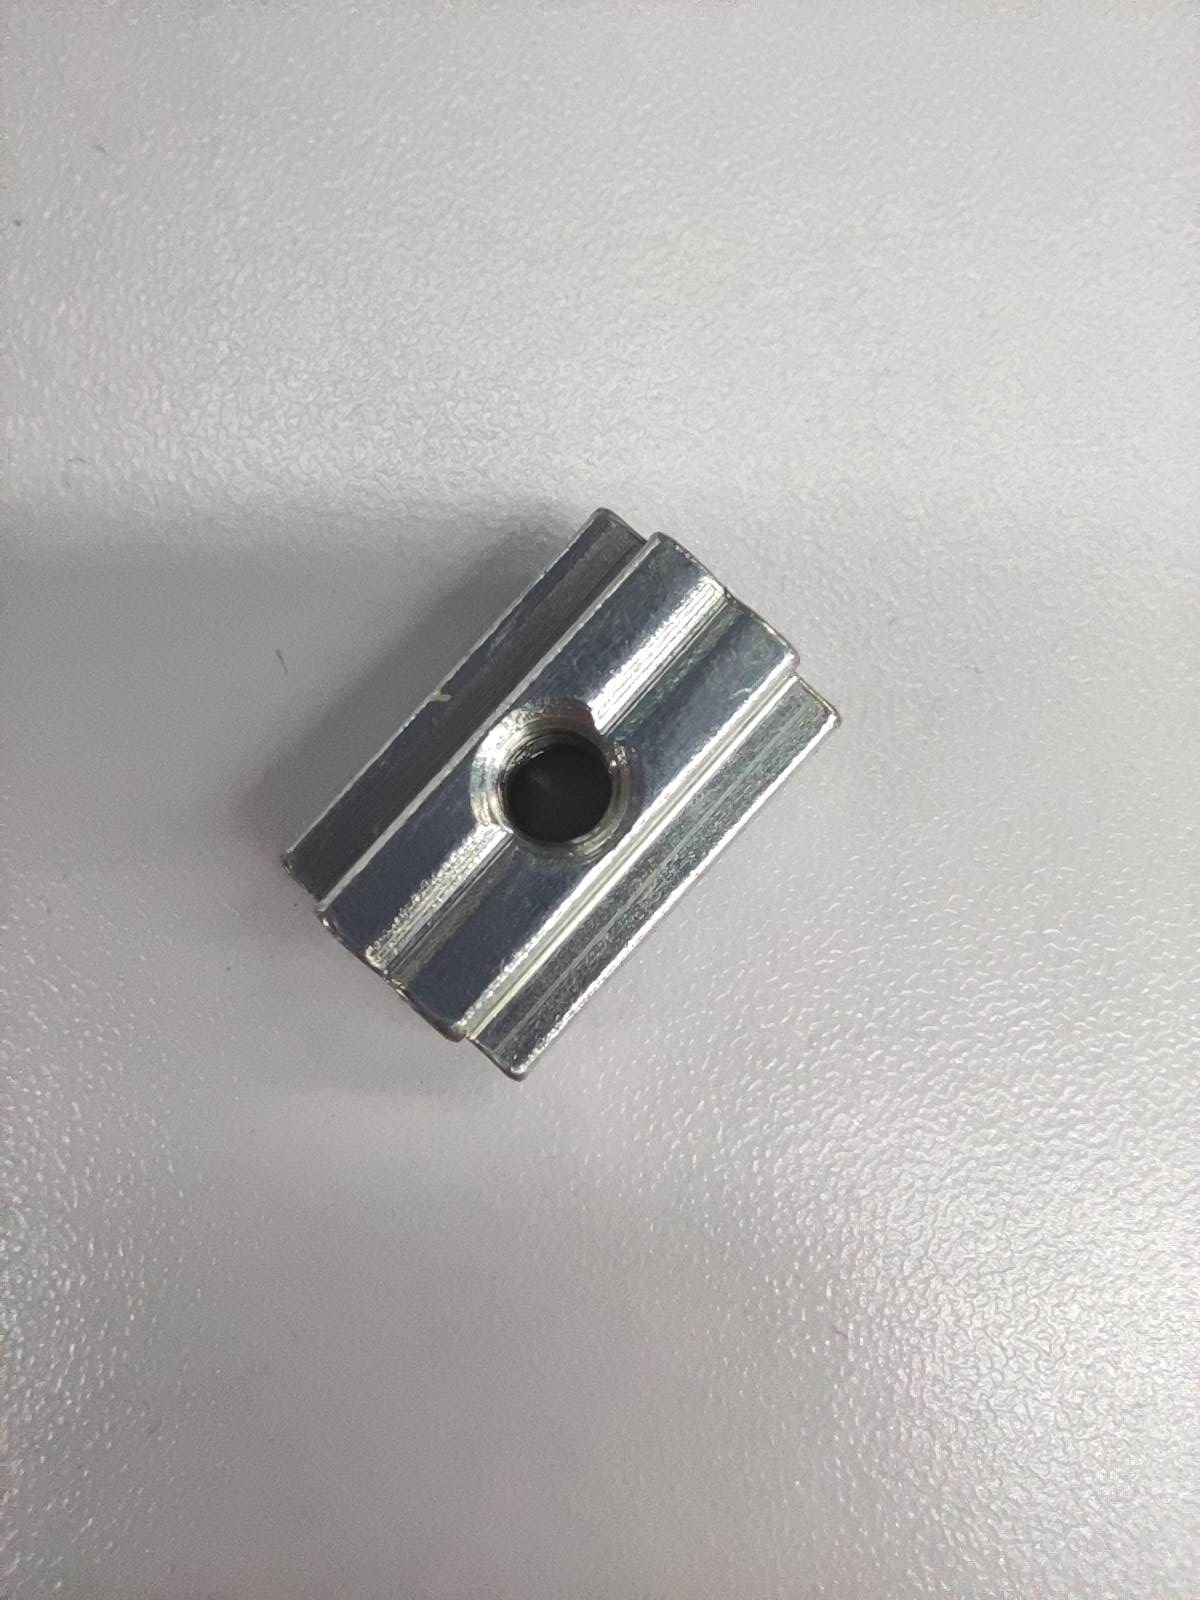T型块1: (279, 504, 845, 1083)
